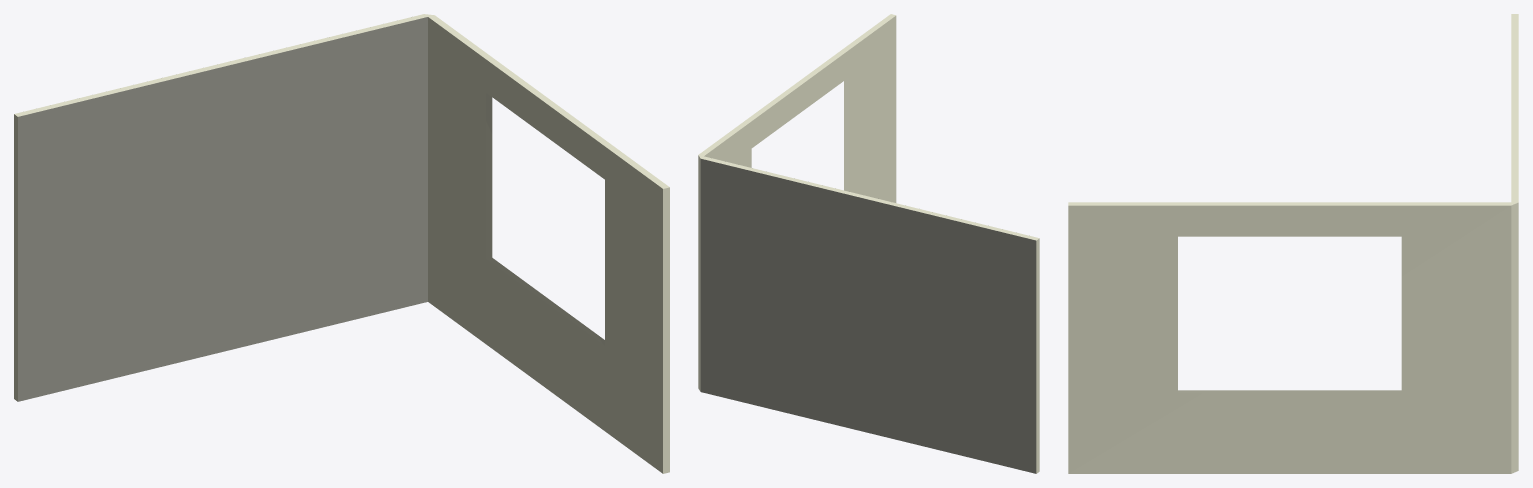
Rendered from Wall.glb.
3 views of the same model, side by side, from view 1: azimuth 30°, elevation 25°; view 2: azimuth 150°, elevation 25°; view 3: azimuth 270°, elevation 25° (orthographic). The views are drawn at different scales.
Parts seen in each view (by area): view 1: Wall; view 2: Wall; view 3: Wall.
Boxes of the visible parts, x1,y1,x2,y2 form: Wall: (14, 14, 669, 473); Wall: (698, 14, 1039, 473); Wall: (1068, 14, 1518, 473).
Size of the model in its own units: 3.06 by 2 by 3.04.
